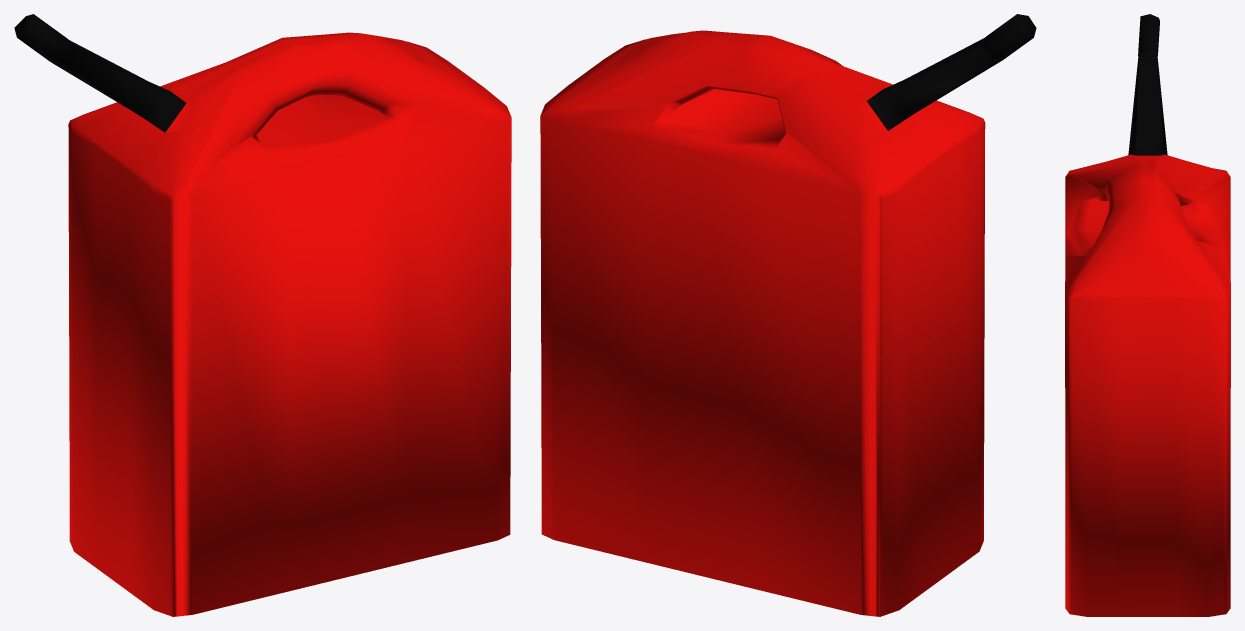
The model's file is Gasolina.fbx.
The picture shows the model from 3 angles, left to right: view 1: azimuth 30°, elevation 25°; view 2: azimuth 150°, elevation 25°; view 3: azimuth 270°, elevation 25°; orthographic projection. The views are drawn at different scales.
Parts seen in each view (by area): view 1: Combustible; view 2: Combustible; view 3: Combustible.
Part boxes in pixels (x1,y1,x2,y2): Combustible: [14, 14, 511, 616]; Combustible: [540, 14, 1036, 616]; Combustible: [1065, 14, 1230, 616].
Size of the model in its own units: 223 by 278 by 94.31.
